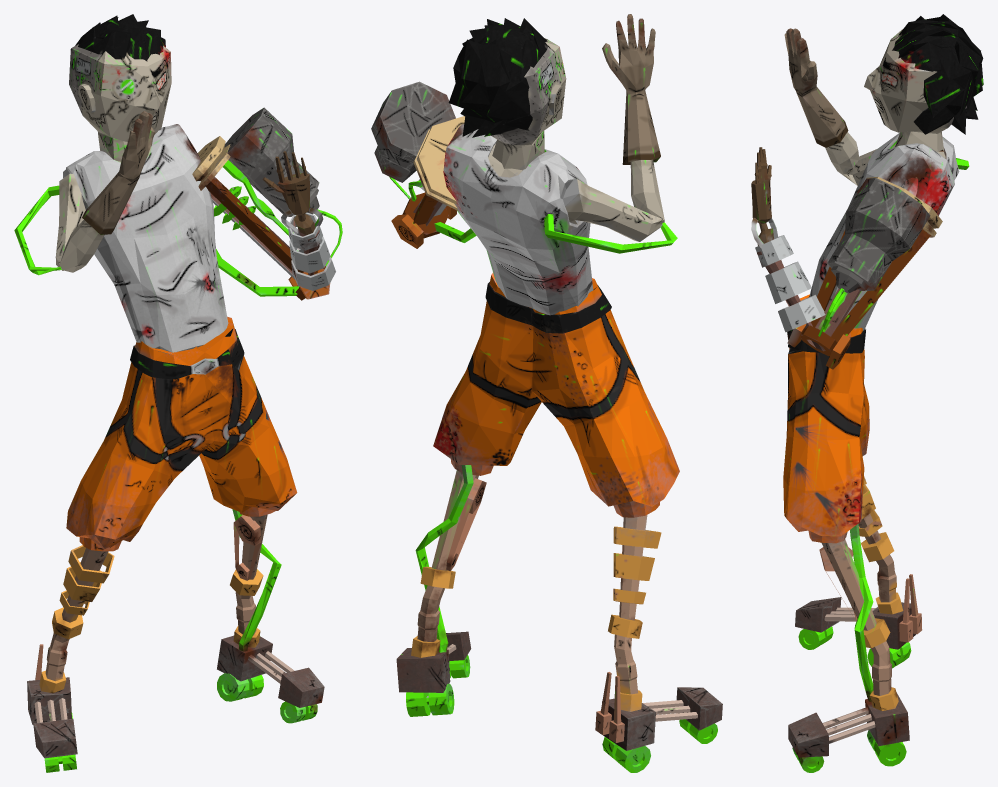
The model's file is CyborgFINALAnimation_000020.obj.
3 renders of one model, left to right at view 1: azimuth 30°, elevation 25°; view 2: azimuth 150°, elevation 25°; view 3: azimuth 270°, elevation 25°, orthographic. The views are drawn at different scales.
Visible parts, largest first — view 1: CyborgMesh_Cube.002; view 2: CyborgMesh_Cube.002; view 3: CyborgMesh_Cube.002.
Boxes of the visible parts, x1,y1,x2,y2 form: CyborgMesh_Cube.002: [14, 14, 342, 772]; CyborgMesh_Cube.002: [371, 14, 722, 772]; CyborgMesh_Cube.002: [751, 14, 983, 772].
Bounding box in the file's own units: 4.4 × 9.35 × 2.85.
